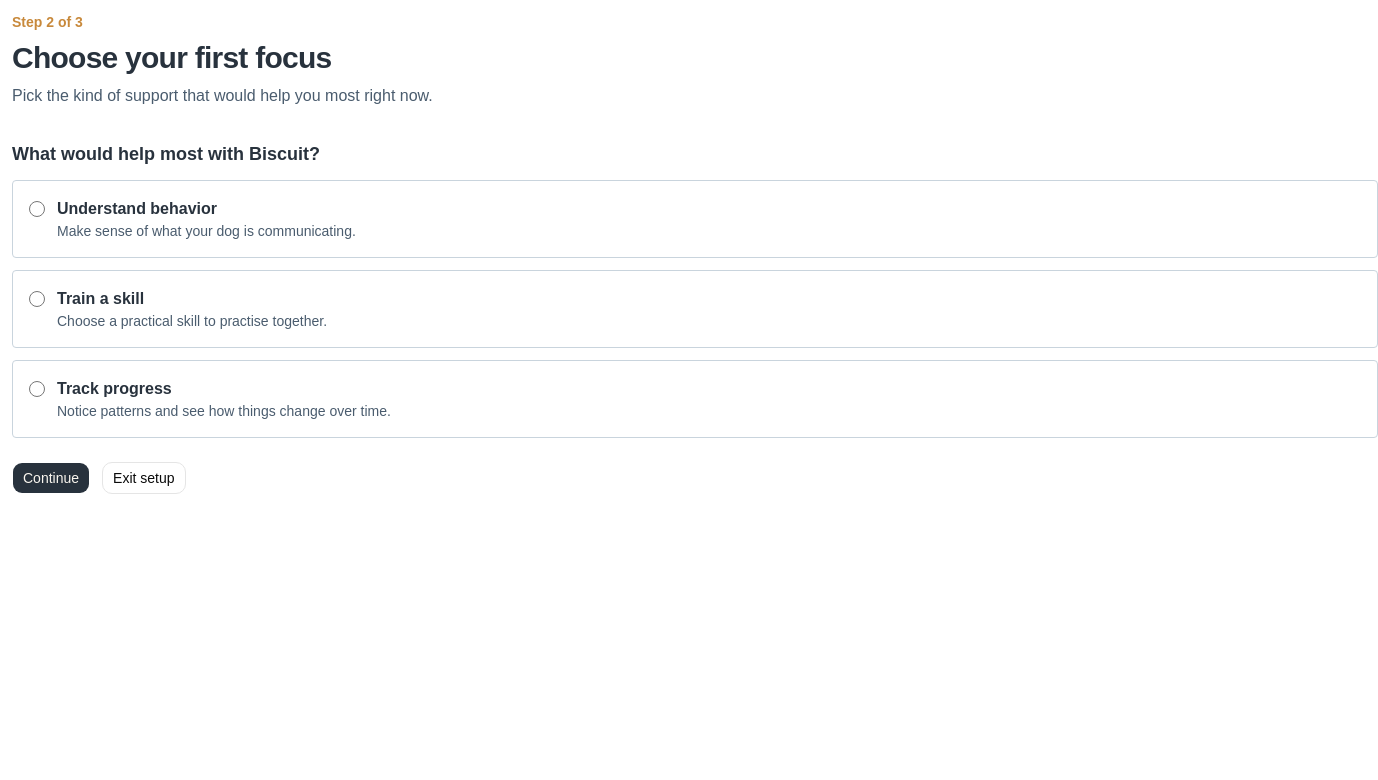
Test case: GuidedSetup › clears the required error when an intent is selected
Click the button "Continue" at (51, 478), box [12, 462, 90, 494]
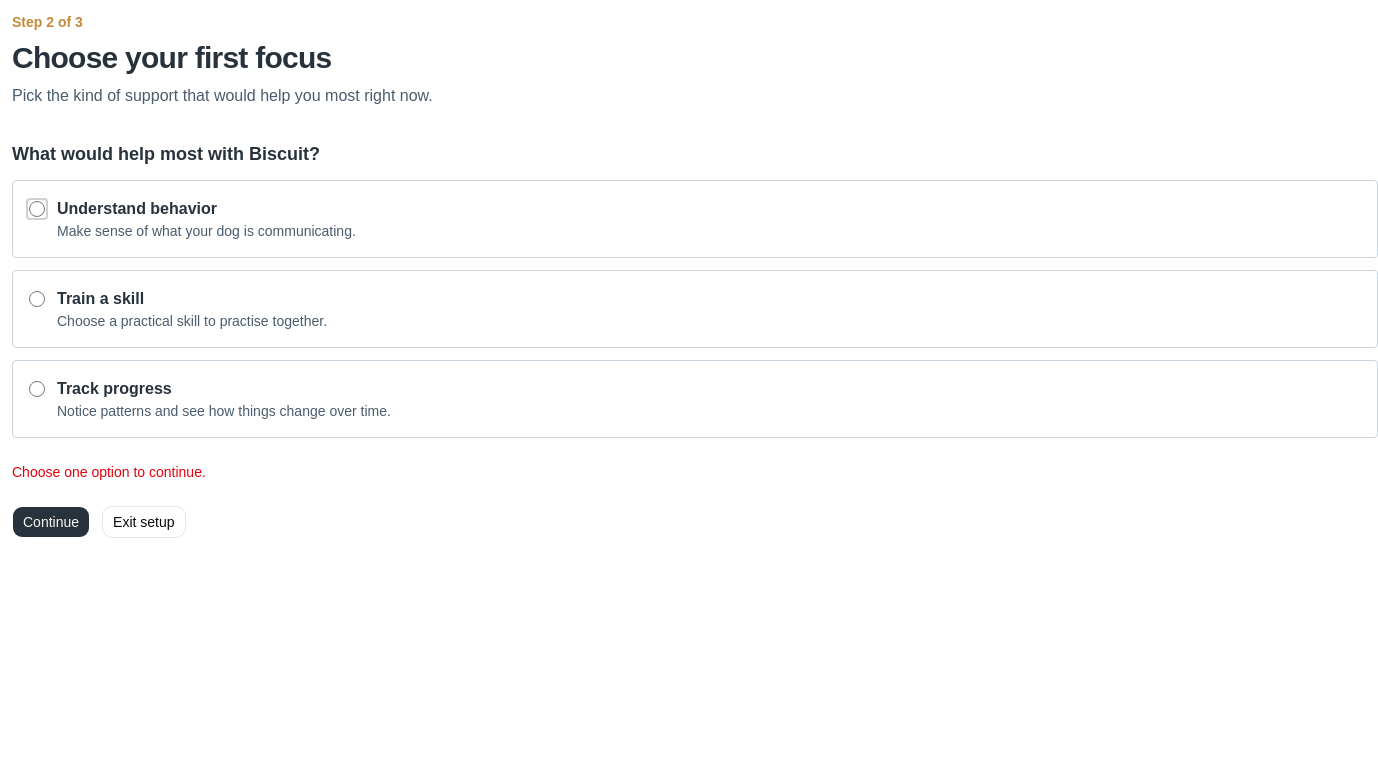
Click the radio button labelled "Track progress" at (37, 389), box [29, 381, 45, 397]
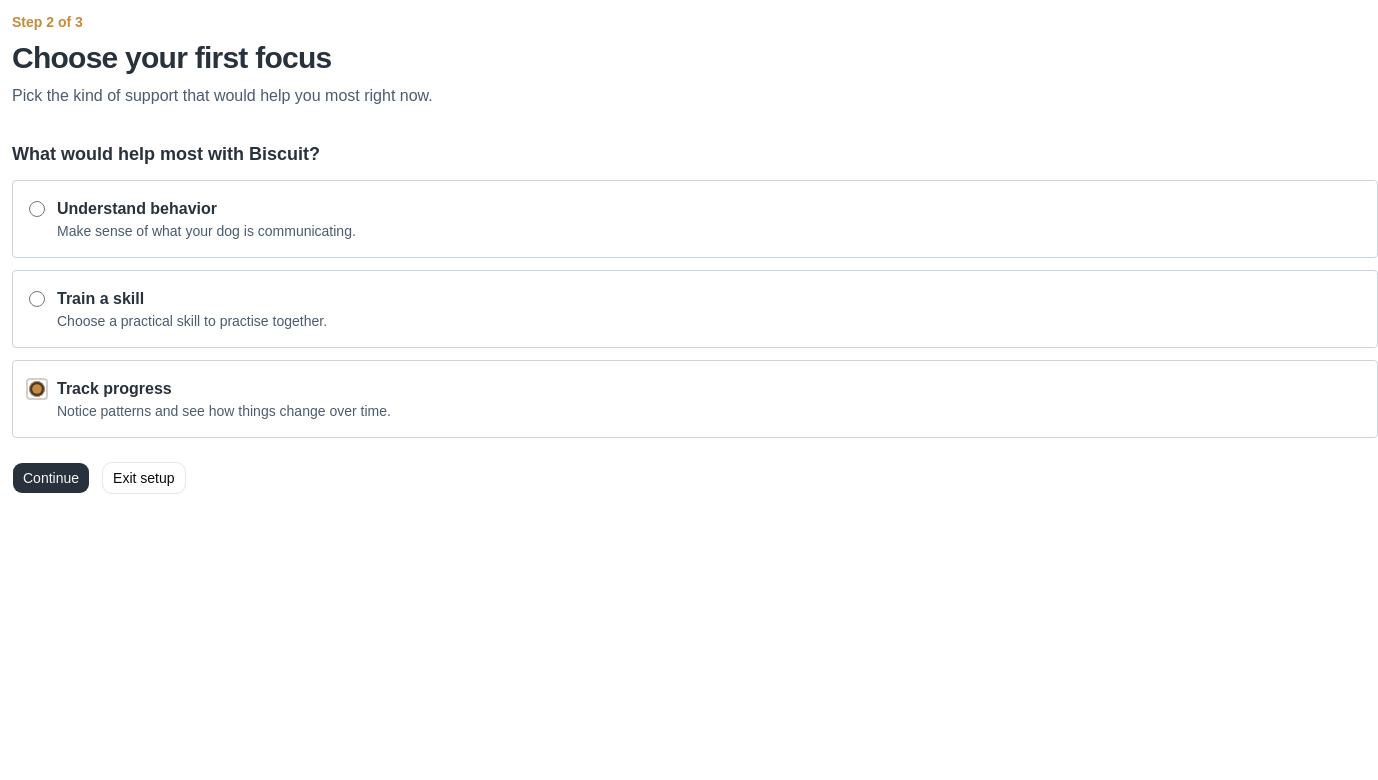
Check: the message "Choose one option to continue." is gone
